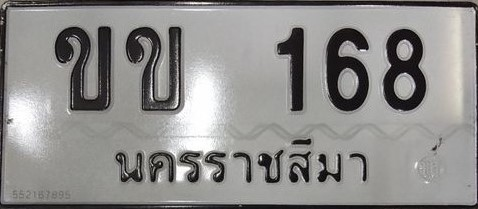txt02: (51, 23, 114, 113), (124, 24, 186, 115)
